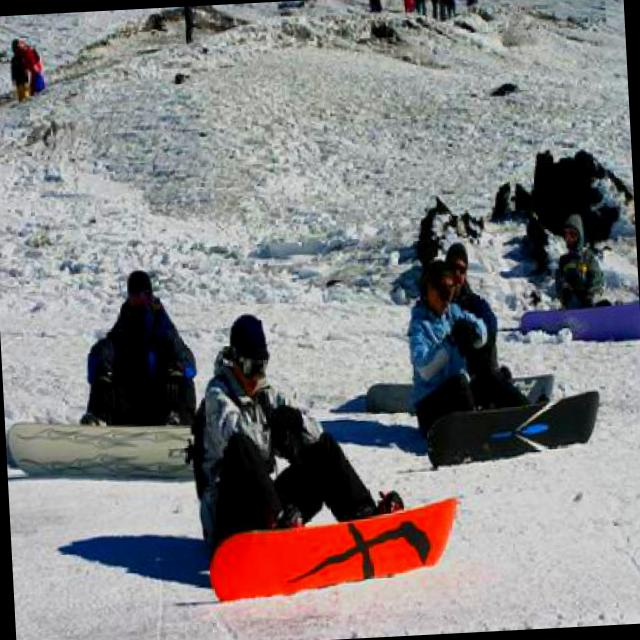Person: (180, 316, 410, 561), (404, 253, 550, 440), (72, 267, 202, 432), (443, 240, 501, 382), (551, 213, 613, 313), (17, 39, 44, 97), (9, 39, 32, 103), (183, 6, 198, 47), (429, 0, 444, 23), (446, 0, 460, 20), (413, 0, 427, 16), (465, 0, 480, 10)
